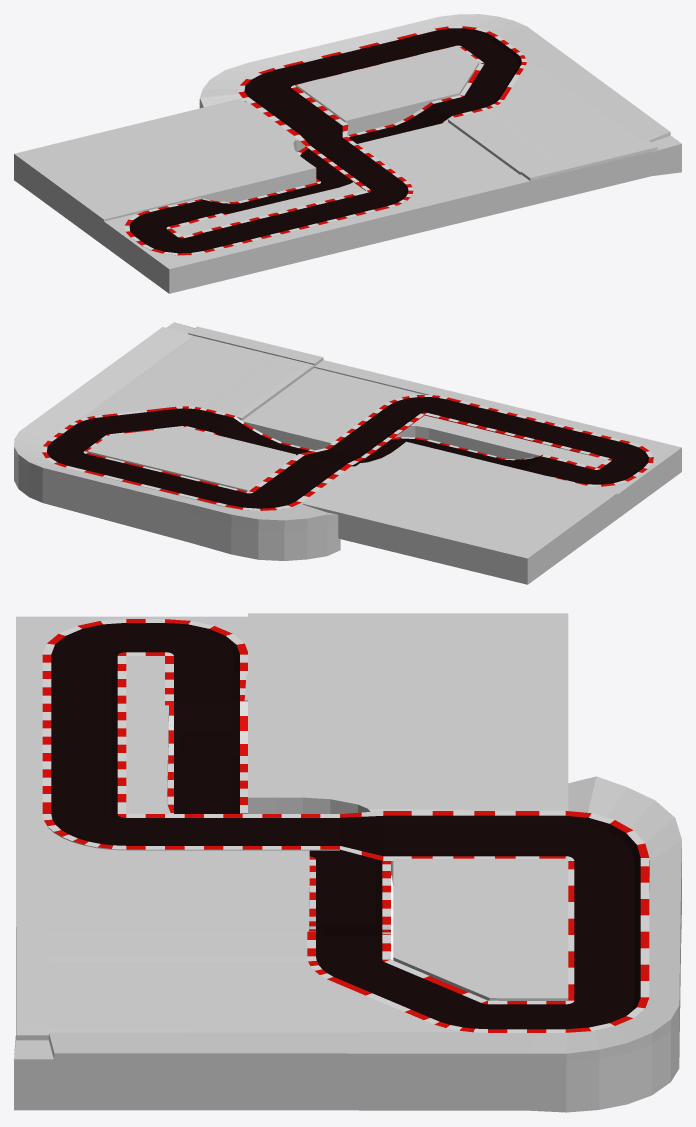
File: lowpoly.gltf
The picture shows the model from 3 angles, top to bottom: view 1: azimuth 30°, elevation 25°; view 2: azimuth 150°, elevation 25°; view 3: azimuth 270°, elevation 25°; orthographic projection. The views are drawn at different scales.
Parts seen in each view (by area): view 1: Cube, Plane; view 2: Cube, Plane; view 3: Cube, Plane.
Boxes of the visible parts, bbox=[...] form: Cube: bbox=[14, 14, 681, 293]; Plane: bbox=[124, 26, 526, 255]; Cube: bbox=[14, 322, 681, 584]; Plane: bbox=[42, 395, 653, 510]; Cube: bbox=[14, 613, 681, 1112]; Plane: bbox=[42, 619, 649, 1032].
Size of the model in its own units: 54212 by 4272 by 34403.
